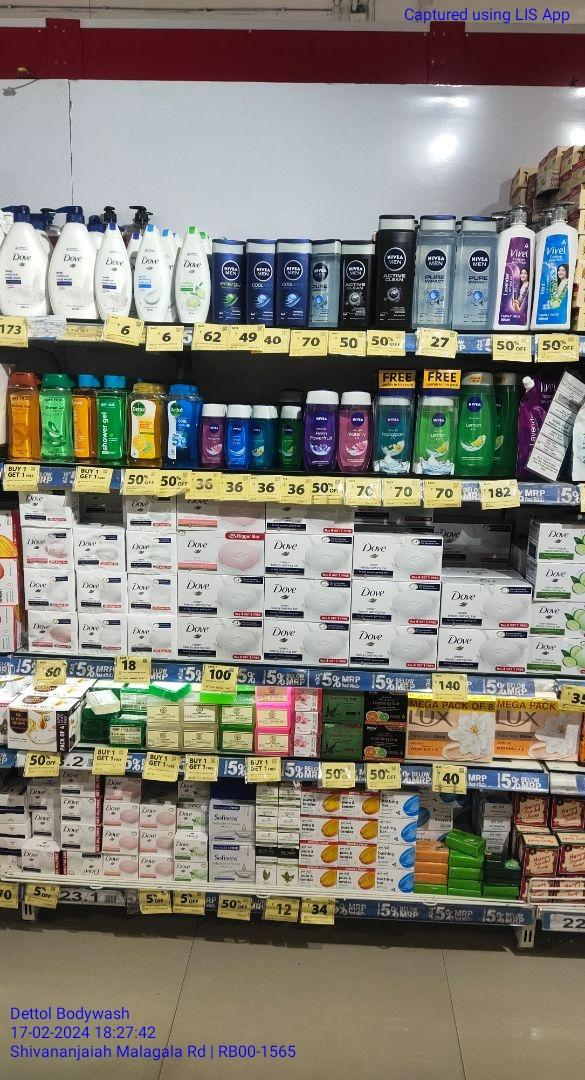Dettol_Bodywash_Cool: (163, 384, 197, 467)
Dettol_Bodywash_Refresh: (126, 382, 161, 467)
Dove_Deep_Moisture_Body_Wash_250ML: (96, 220, 131, 322)
Dove_Gentle_Exfoliating_Body_Wash_250ML: (135, 225, 169, 322)
Dove_Refreshing_Body_Wash_250ML: (174, 227, 207, 323)
Get_Real_Shower_Gel_Moisturising_Glycerin_300ML: (7, 372, 38, 458)
Nivea_Shower_Gel_Fresh_Powerfruit_250ML: (304, 390, 336, 472)
Nivea_Shower_Gel_Lemon_and_Oil_250ML: (457, 372, 496, 479)
Nivea_Shower_Gel_Waterlily_and_Oil_250ML: (340, 390, 372, 474)
